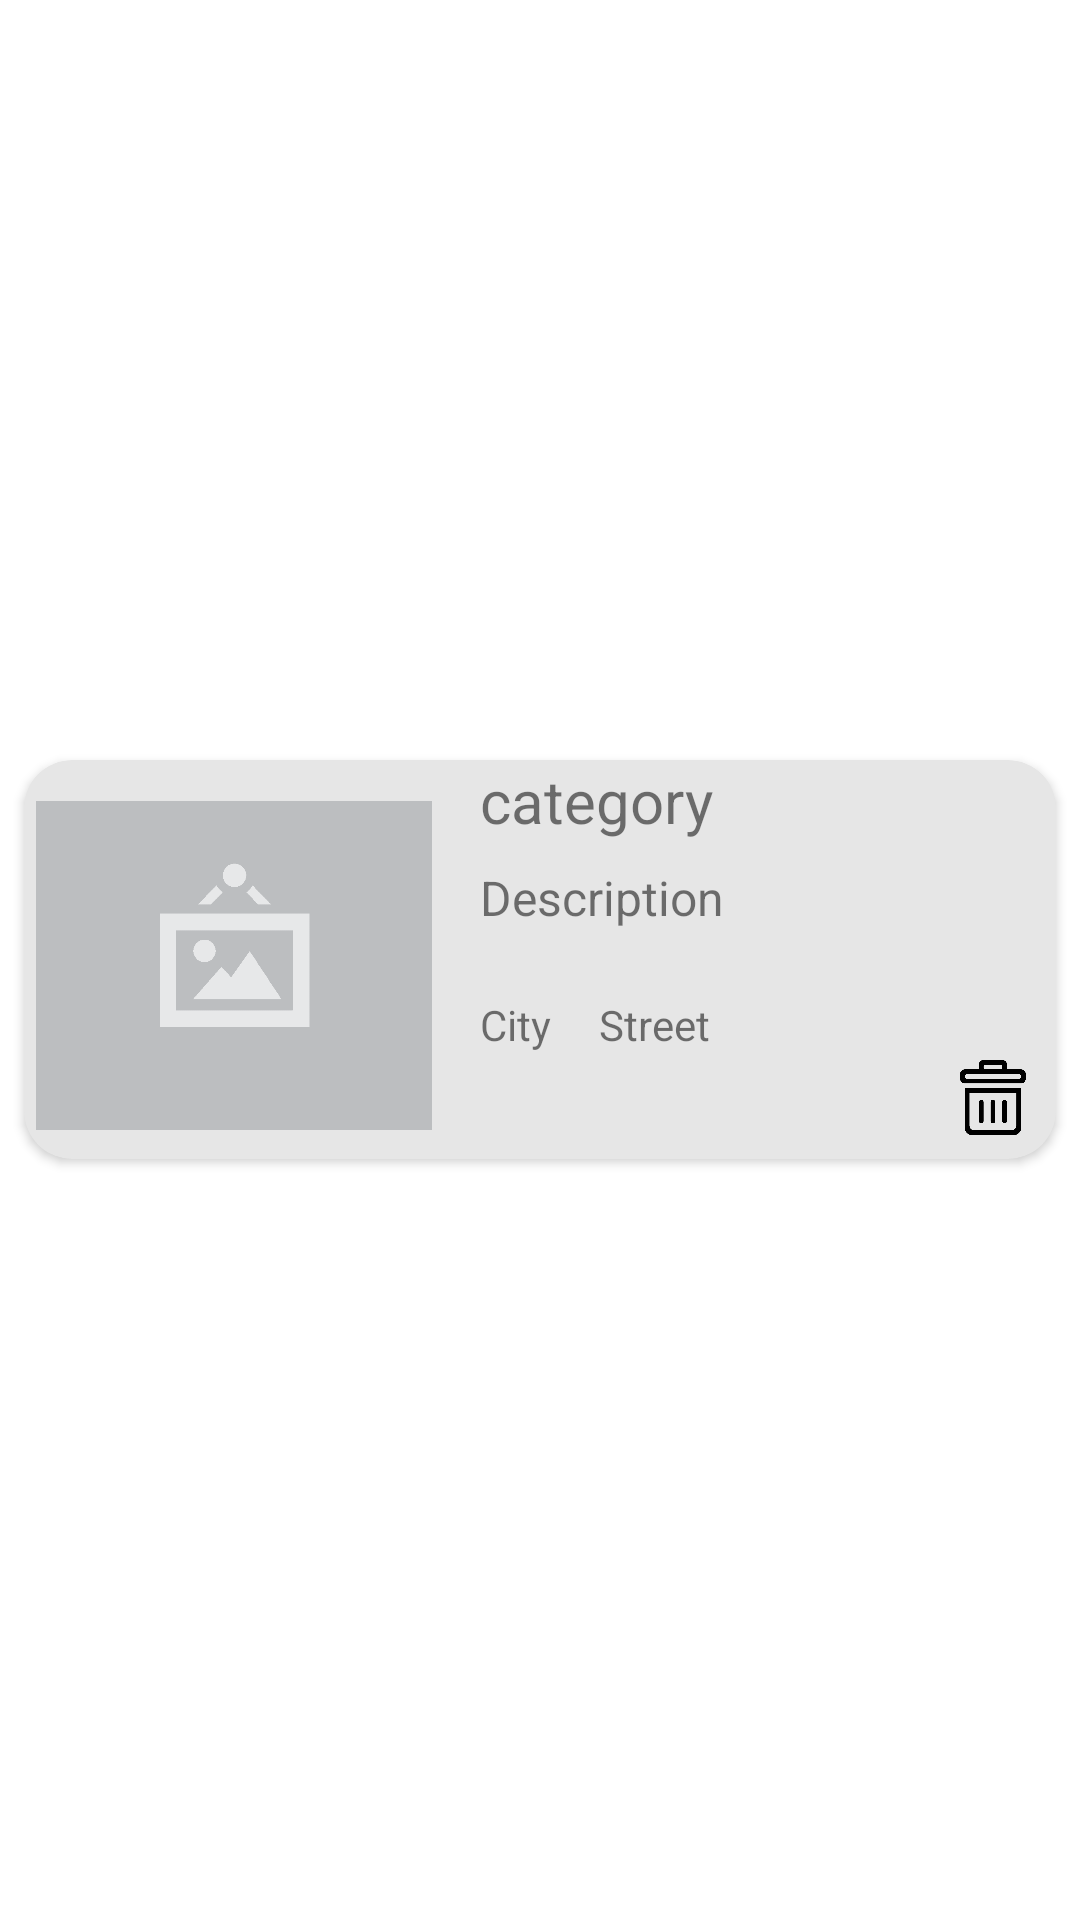

Icon bounding boxes for this 1080 × 1920 phone screenshot, format {"x1": x1, "y1": y1, "x2": x2, "y2": y2}:
delete post: {"x1": 960, "y1": 1060, "x2": 1026, "y2": 1135}
